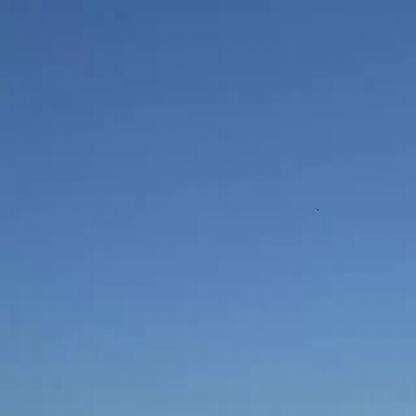CIV_Plane: (312, 202, 322, 216)
